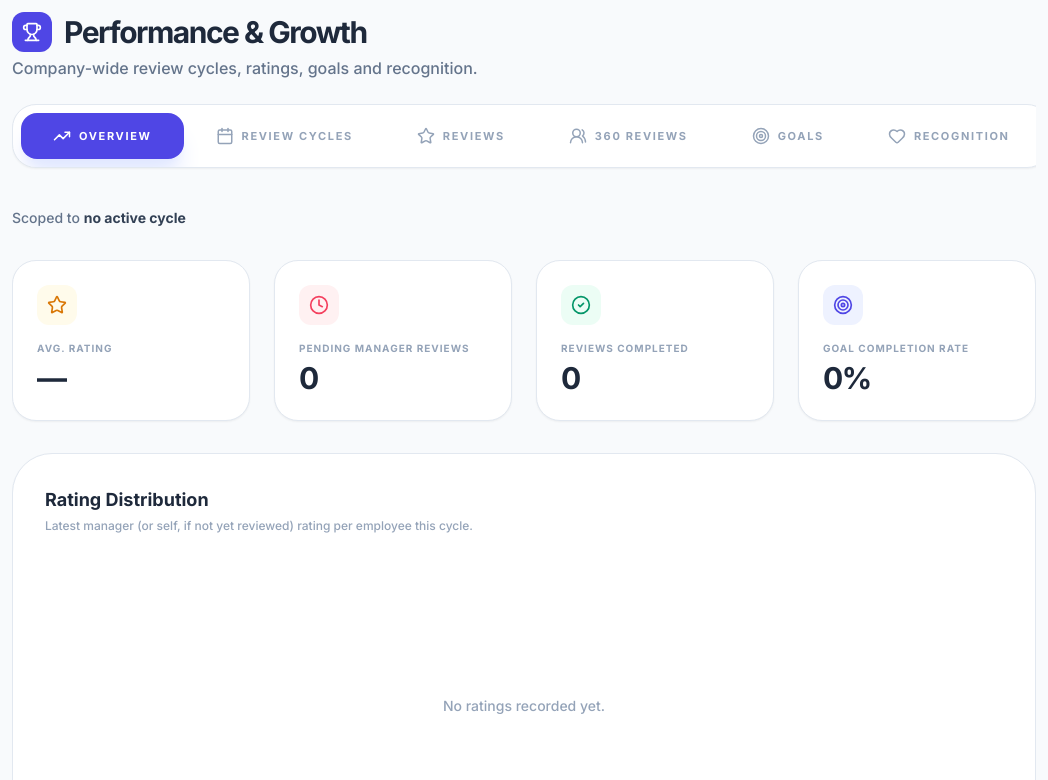
PerformanceManagement (admin) › Reviews tab › labels a completed assessment's action as "Edit Review" and others as "Review"
Click the button "Reviews" at (461, 136), box [385,113,537,159]
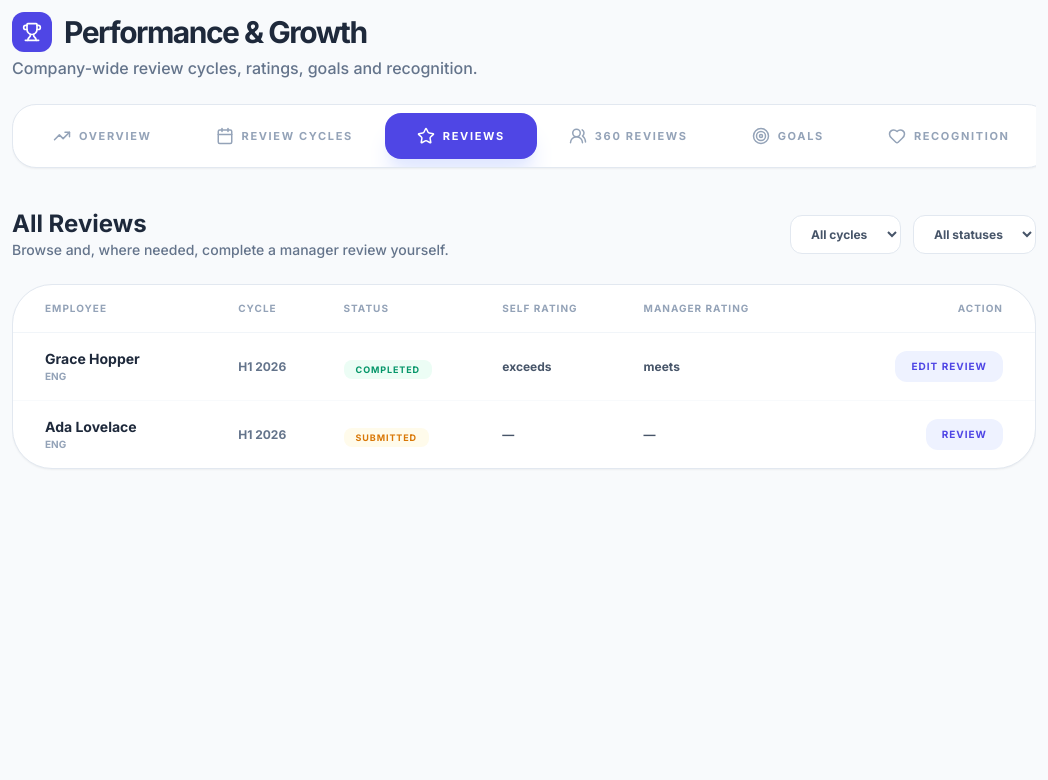
Result: the button "Edit Review" is shown at [896,351,1003,382]
Result: the button "Review" is shown at [926,419,1003,450]
